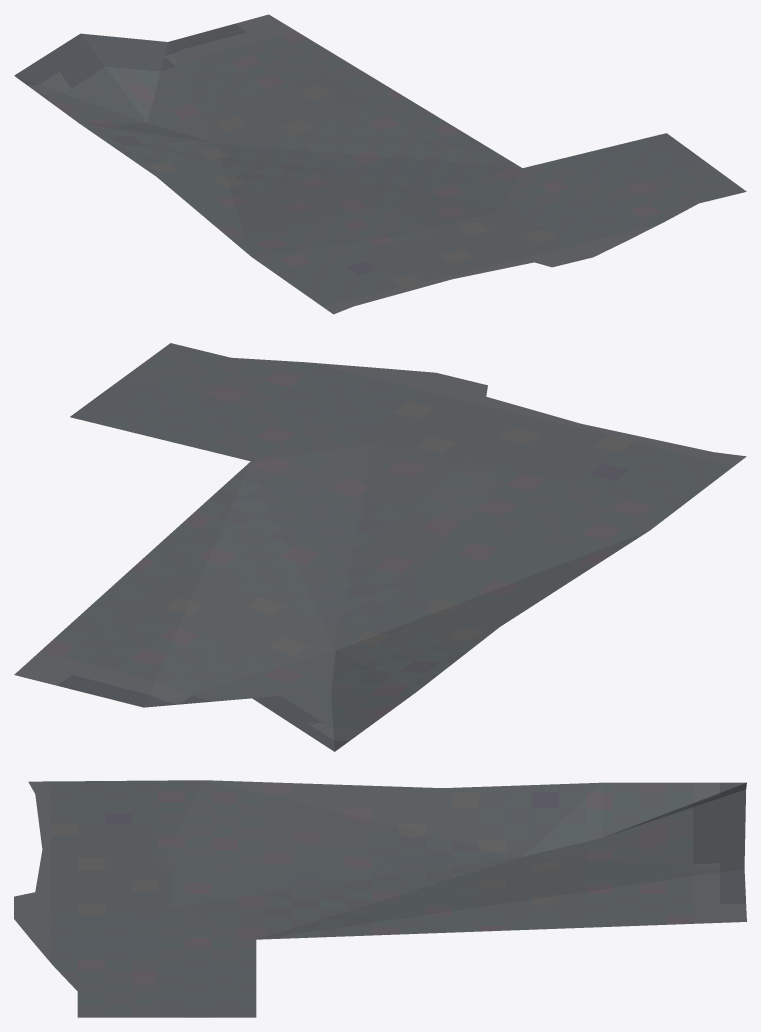
The model's file is lodn_sfe1121.obj.
3 views of the same model, one above another, from view 1: azimuth 30°, elevation 25°; view 2: azimuth 150°, elevation 25°; view 3: azimuth 270°, elevation 25° (orthographic). The views are drawn at different scales.
Parts seen in each view (by area): view 1: LODn_sfe1121; view 2: LODn_sfe1121; view 3: LODn_sfe1121.
Boxes of the visible parts, bbox=[...] form: LODn_sfe1121: bbox=[14, 14, 746, 314]; LODn_sfe1121: bbox=[14, 343, 746, 751]; LODn_sfe1121: bbox=[14, 780, 746, 1017].
Bounding box in the file's own units: 75.08 × 7.23 × 97.9.
1 material, 1 textured.
